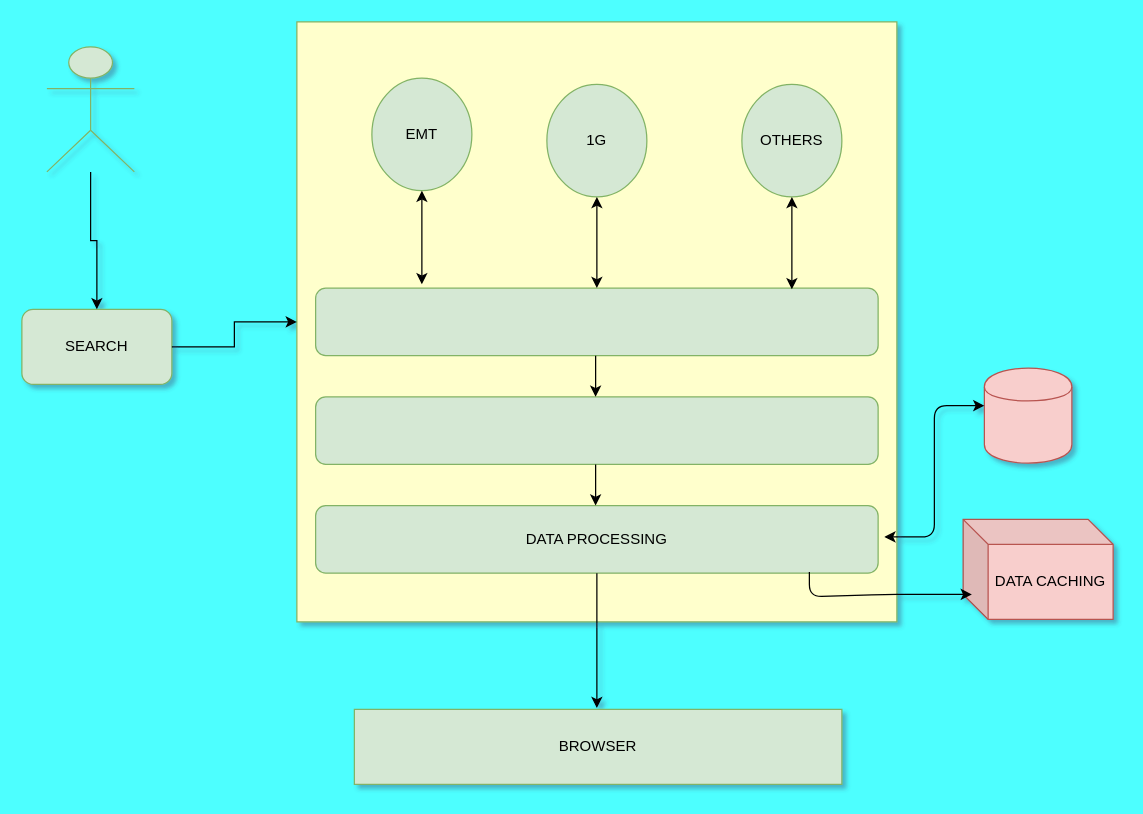
Some shapes in this 1143 by 814 pixel diagram are drawn without their labels. Each missing label, with the centre of its shape:
"CONNECTOR" belongs at [596,321].
"DATA MERGING" belongs at [596,430].
"DATABASE" belongs at [1027,415].
"USER" belongs at [90,109].
